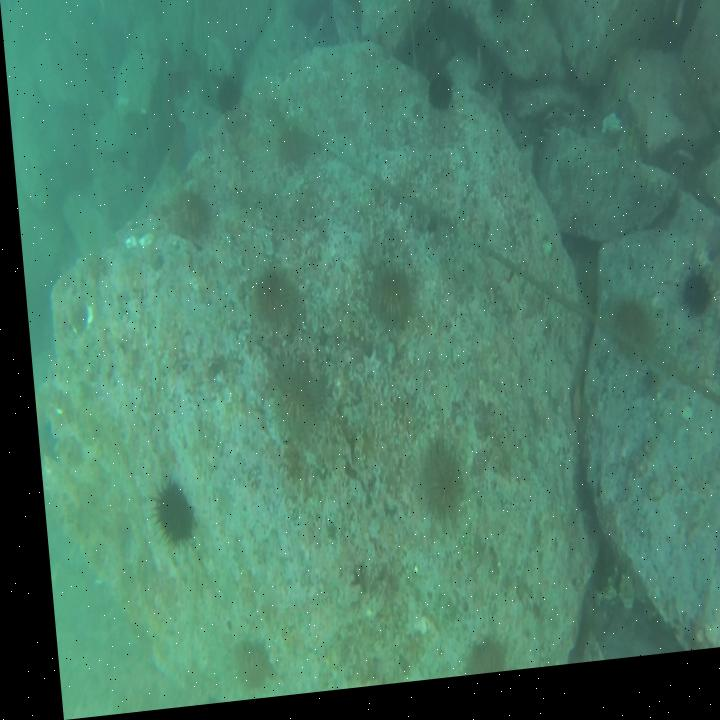echinus: (410, 448, 456, 533), (264, 373, 312, 449), (140, 480, 186, 550), (368, 267, 409, 338), (246, 273, 293, 334), (606, 312, 646, 372), (169, 187, 209, 240), (215, 650, 258, 694), (674, 282, 708, 335), (454, 646, 496, 684), (426, 75, 455, 128), (212, 80, 239, 115), (490, 0, 518, 33)
